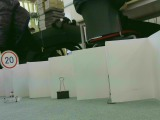speed_20: (1, 49, 19, 70)
